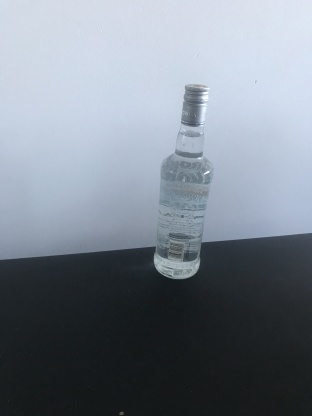nakretka: (179, 80, 210, 128)
